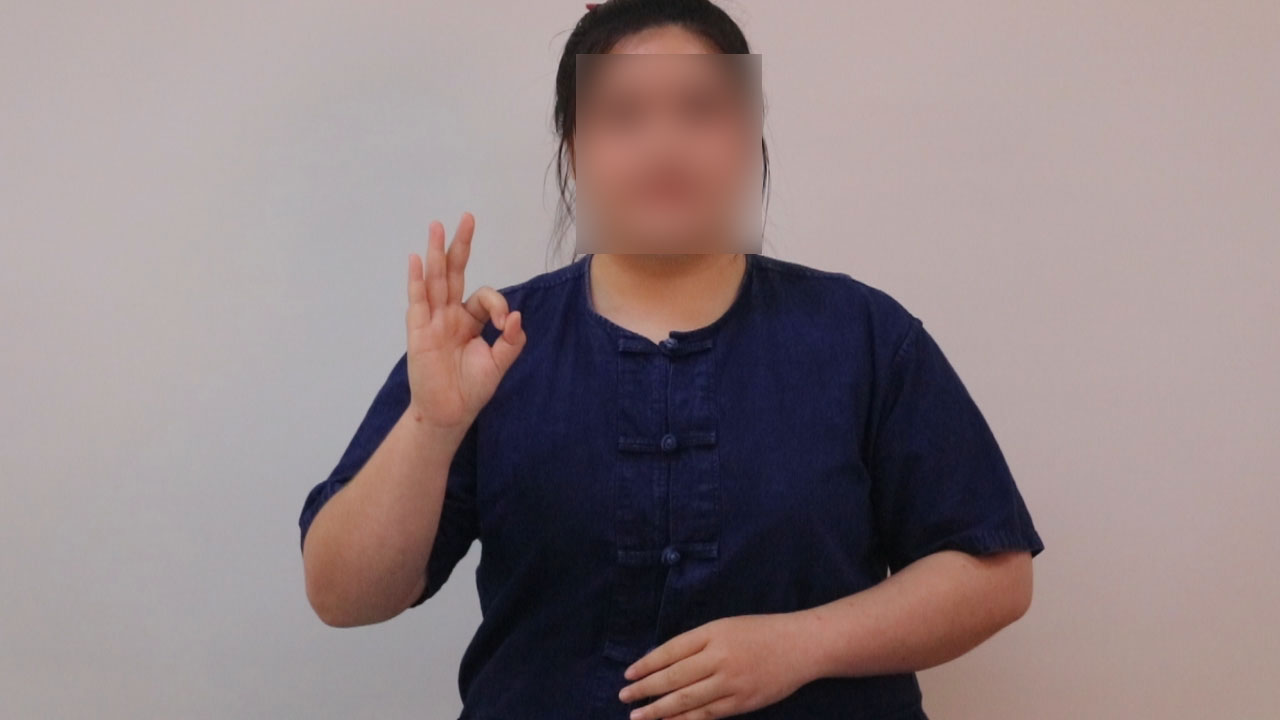for: (381, 201, 538, 425)
